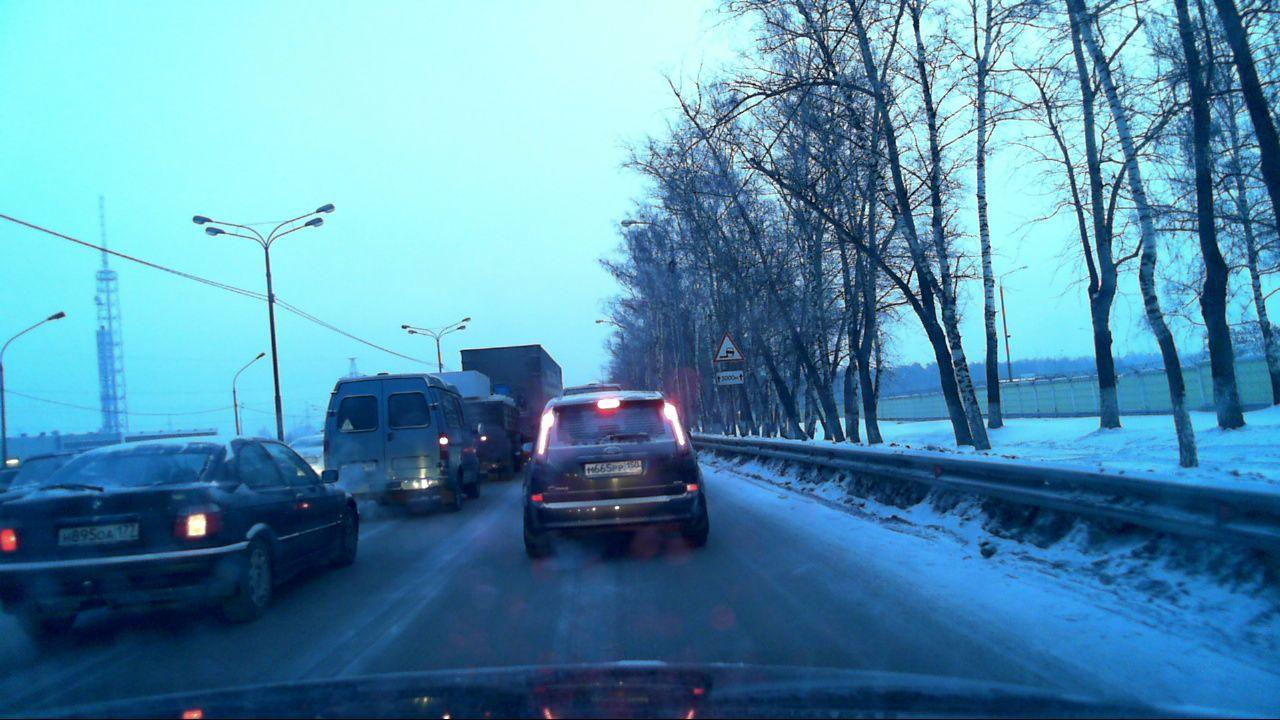1_19: (713, 332, 744, 362)
8_2_1: (714, 370, 745, 385)
